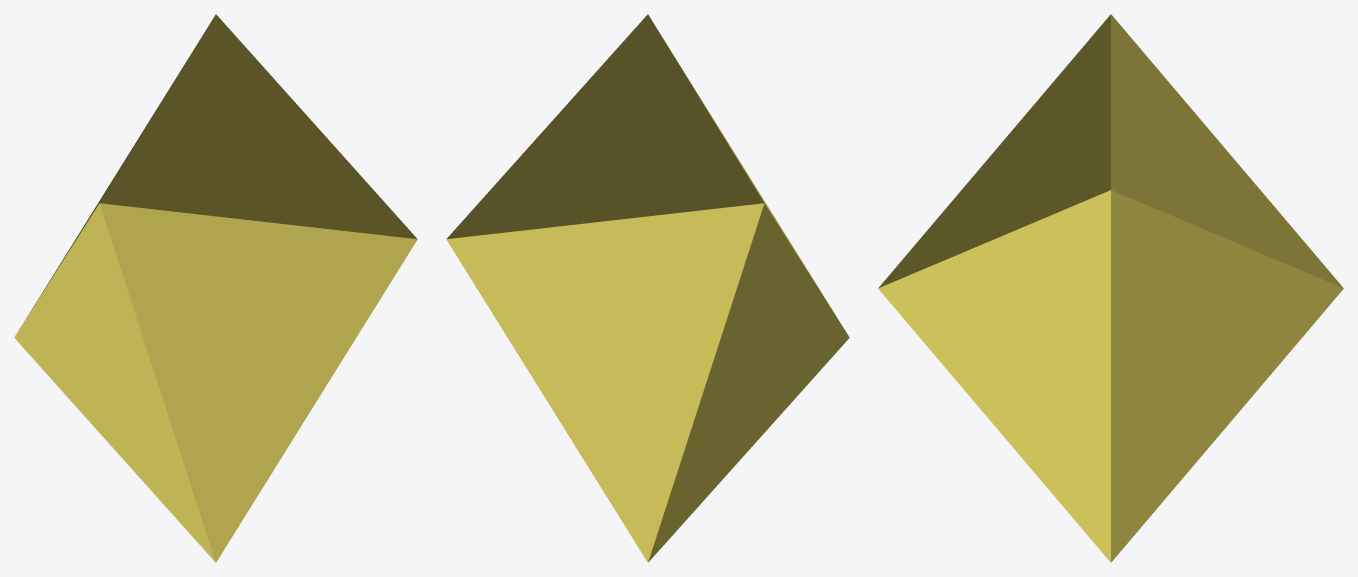
Rendered from road-ready.glb.
3 views of the same model, side by side, from view 1: azimuth 30°, elevation 25°; view 2: azimuth 150°, elevation 25°; view 3: azimuth 270°, elevation 25° (orthographic).
Size of the model in its own units: 2 by 2.6 by 2.
